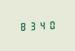eight: (18, 20, 26, 31)
four: (36, 20, 44, 30)
three: (27, 20, 35, 31)
zero: (45, 19, 53, 30)
